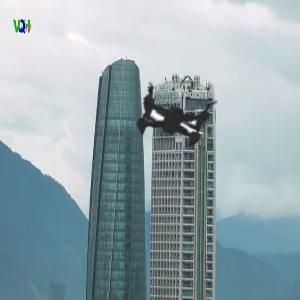drone: (66, 12, 294, 240)
